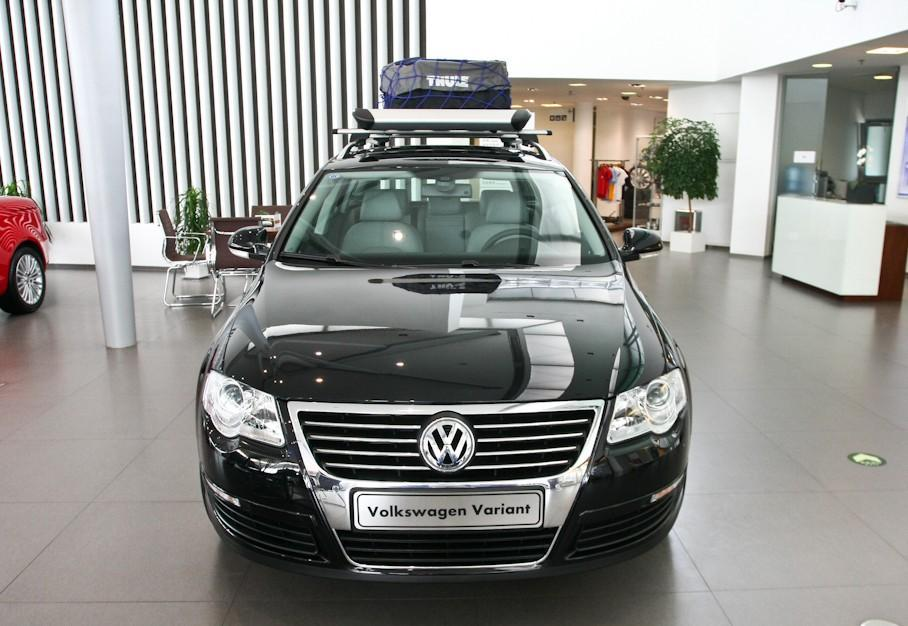Wagon: (195, 145, 692, 585)
